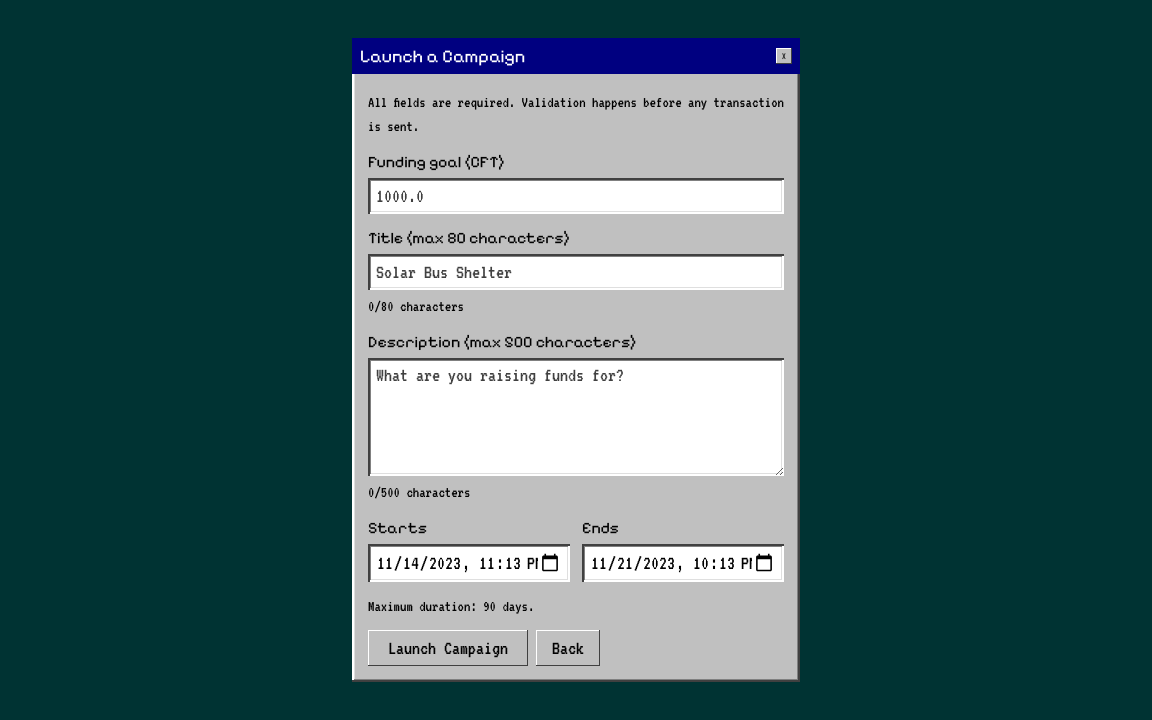
Scenario: LaunchDialog — every violation named, nothing sent › rejects a zero goal
Step 1. Type "0" into the field with test id "launch-goal" → (576, 196), box [368,178,784,214]
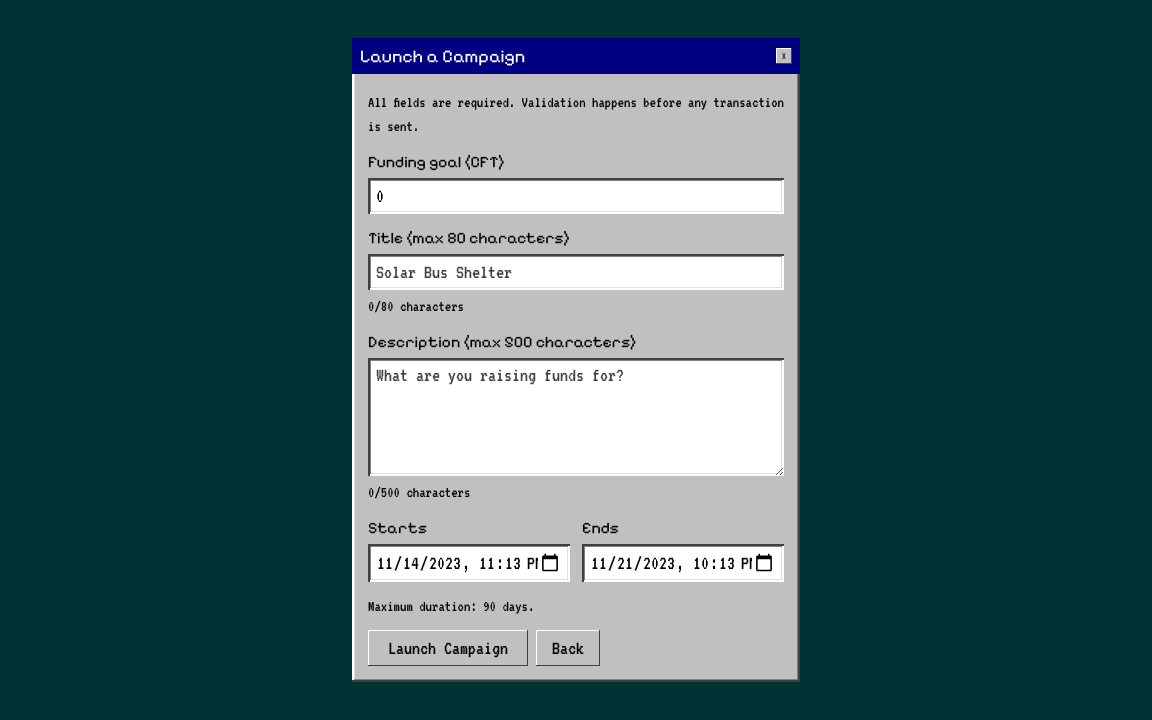
Step 2. Type "T" into the field with test id "launch-title" → (576, 272), box [368,254,784,290]
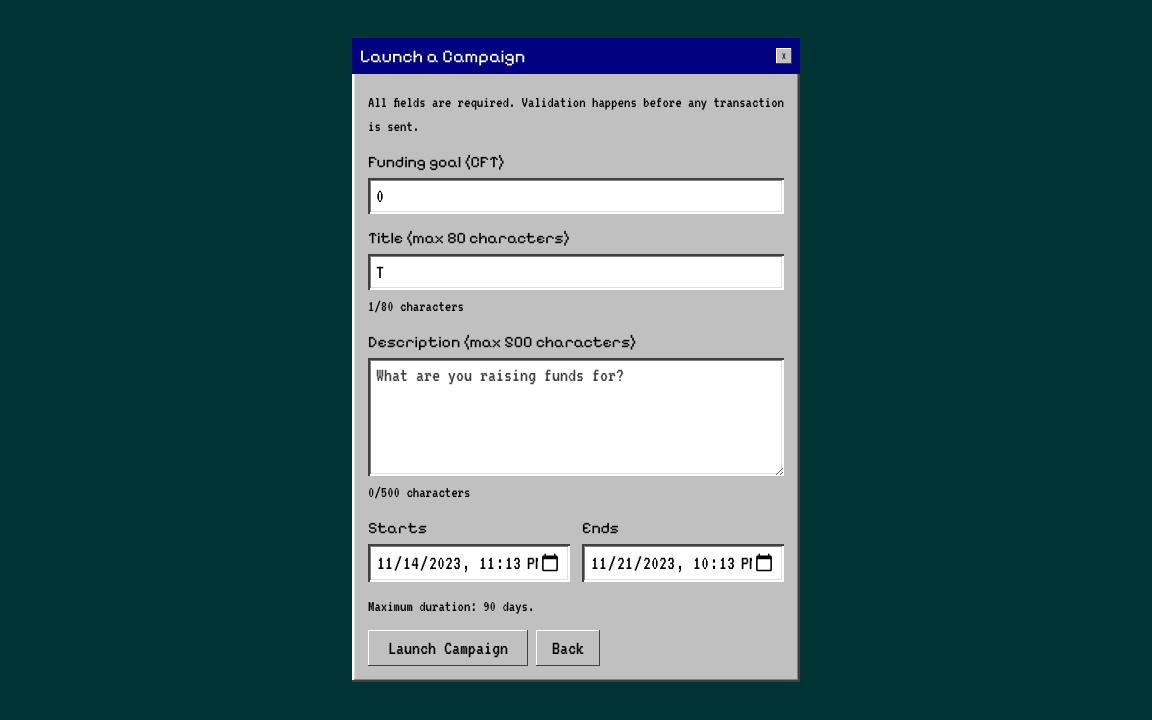
Step 3. Type "D" into the text box with test id "launch-description" → (576, 417), box [368,358,784,476]
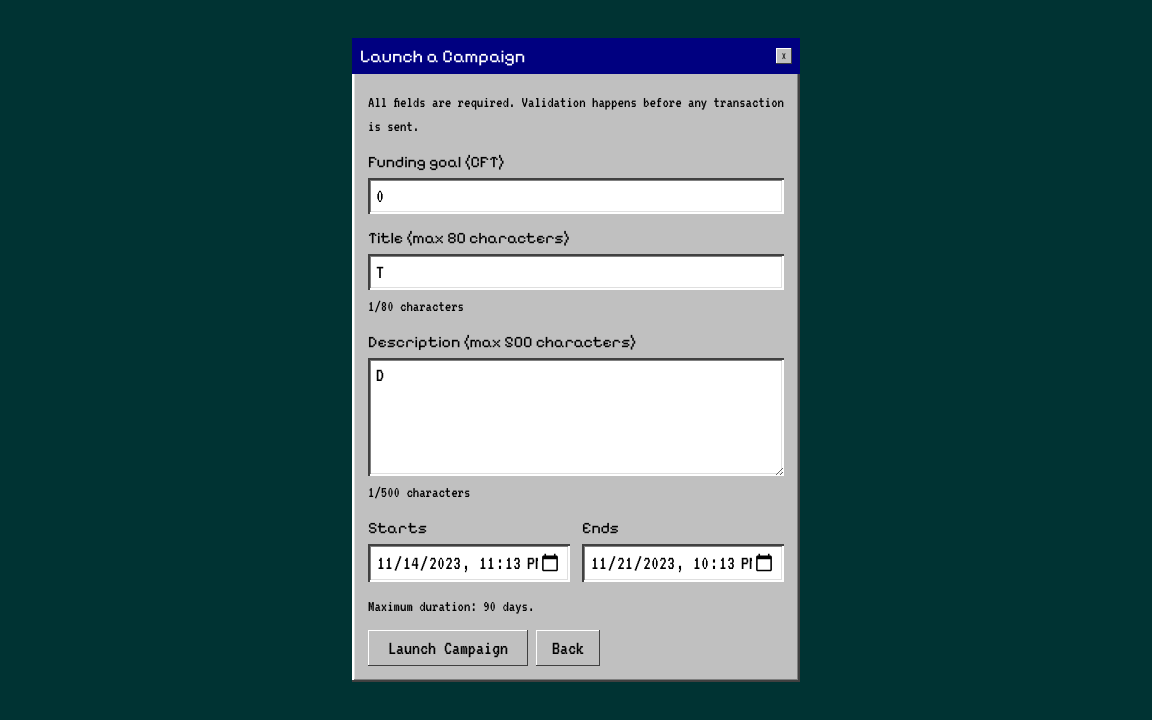
Step 4. Click the button with test id "launch-submit" → (448, 648), box [368,630,528,666]
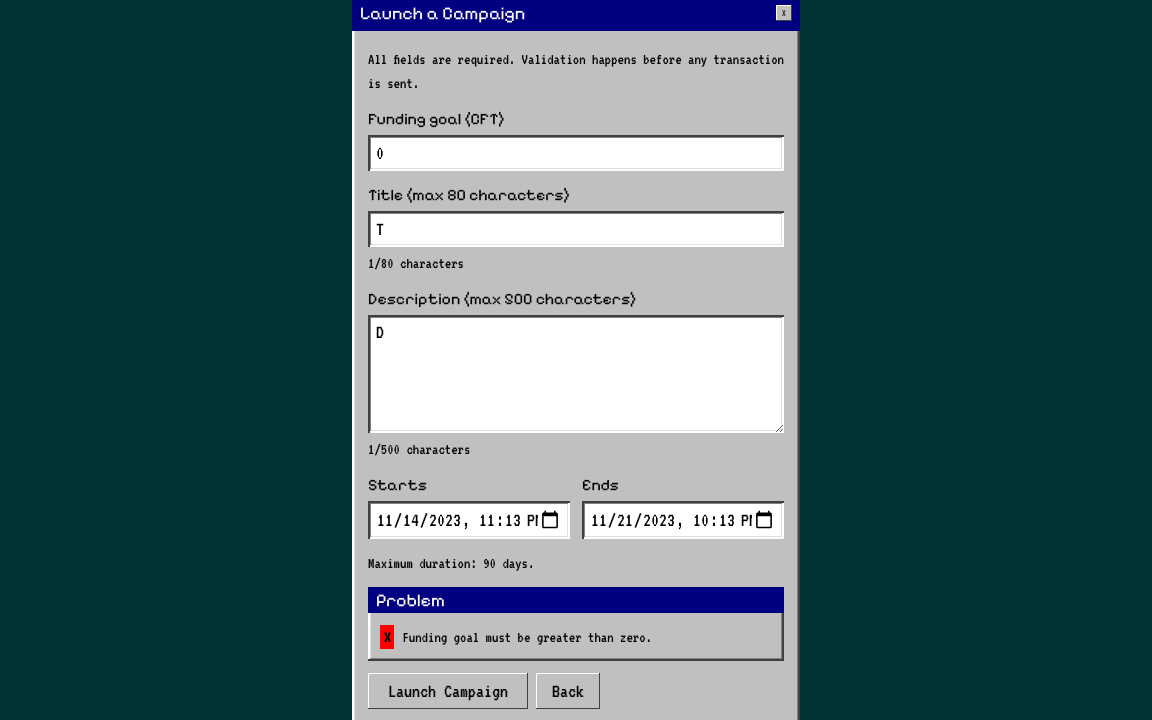
Now the message with test id "launch-error-message" shows "Funding goal must be greater than zero.", box [402,629,652,645]
